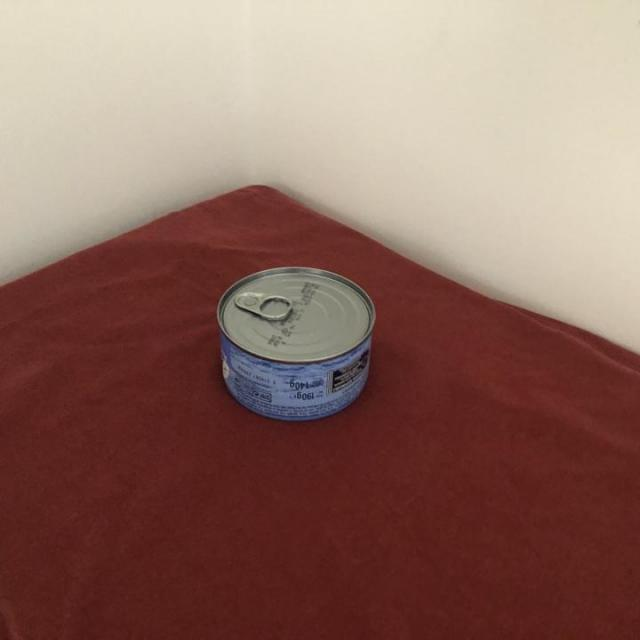recyclable: (210, 252, 385, 430)
